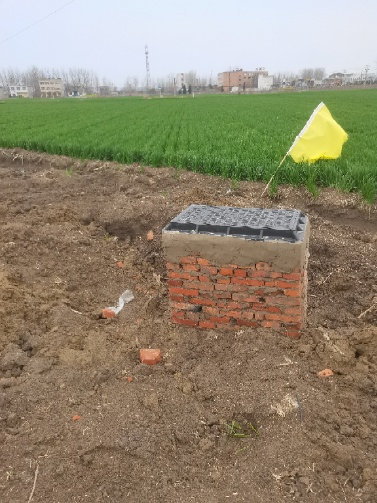good: (161, 200, 307, 239)
